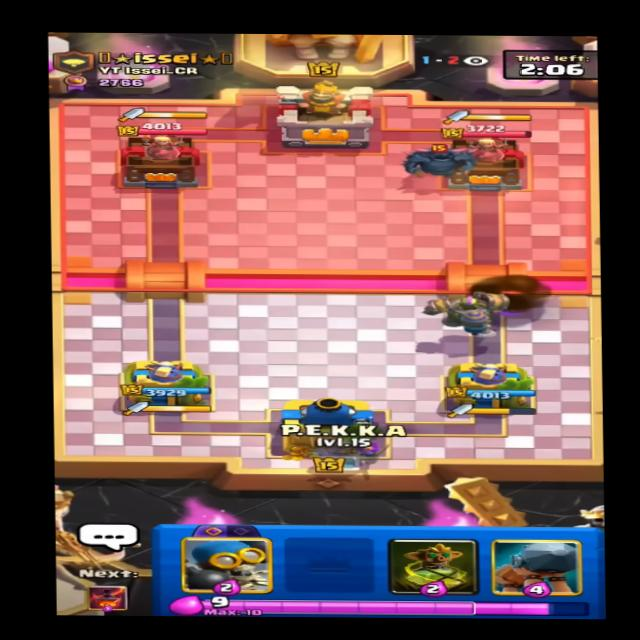Pekka: (395, 134, 478, 177)
